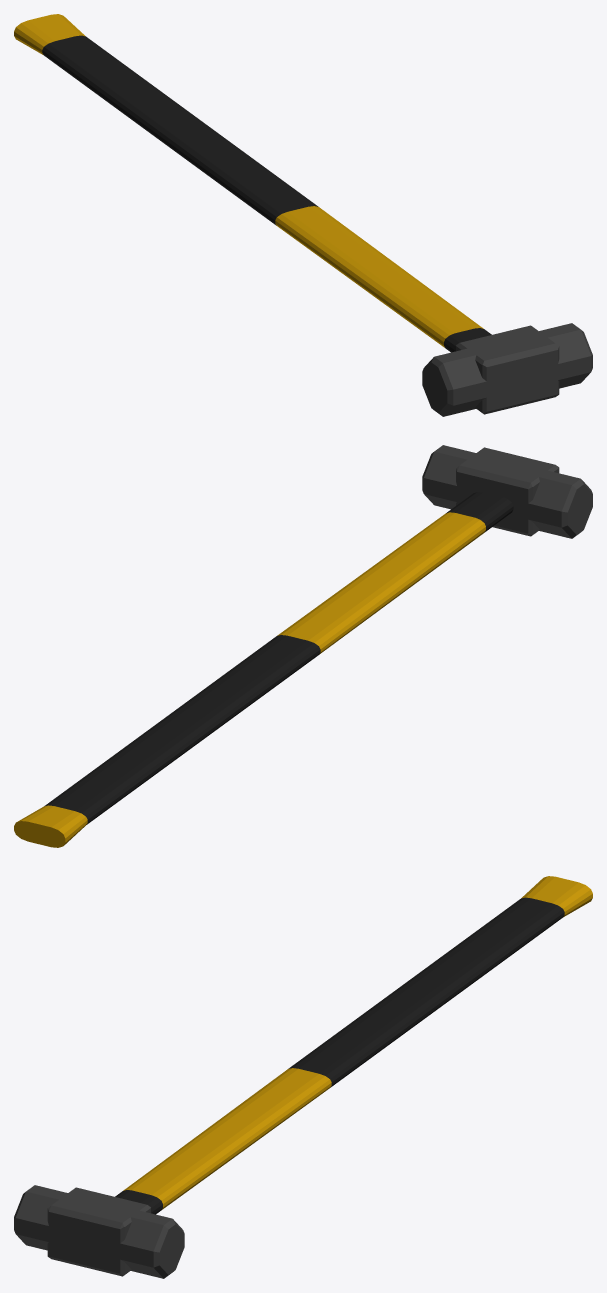
Rendered from Sledgehammer.fbx.
The picture shows the model from 3 angles, top to bottom: view 1: azimuth 30°, elevation 25°; view 2: azimuth 150°, elevation 25°; view 3: azimuth 330°, elevation 25°; orthographic projection.
Parts seen in each view (by area): view 1: Handle, Hammerhead; view 2: Handle, Hammerhead; view 3: Handle, Hammerhead.
Boxes of the visible parts, x1,y1,x2,y2 form: Handle: (14, 14, 491, 352); Hammerhead: (422, 323, 592, 416); Handle: (14, 492, 513, 847); Hammerhead: (422, 445, 592, 538); Handle: (115, 876, 592, 1214); Hammerhead: (14, 1185, 184, 1278).
Size of the model in its own units: 22.67 by 8 by 130.
